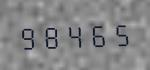eight: (41, 21, 63, 50)
five: (110, 18, 132, 47)
four: (64, 20, 86, 49)
nine: (18, 21, 40, 51)
six: (87, 19, 109, 48)
